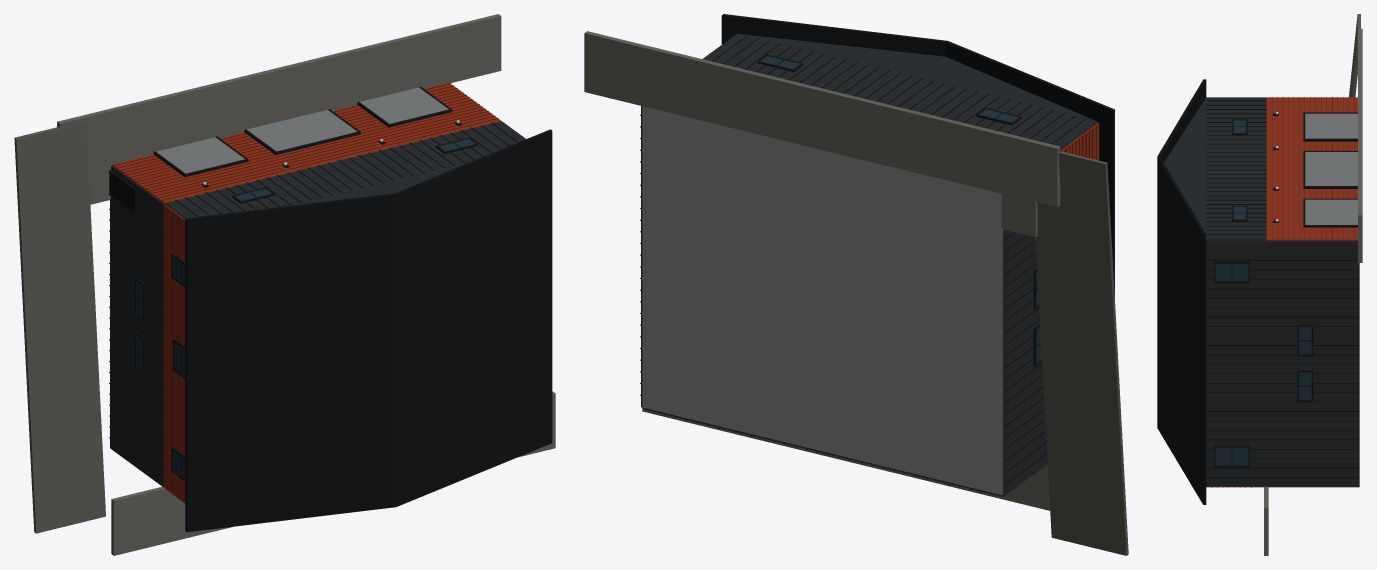
Rendered from walid_warehouse_two_tone.obj.
3 renders of one model, left to right at view 1: azimuth 30°, elevation 25°; view 2: azimuth 150°, elevation 25°; view 3: azimuth 270°, elevation 25°, orthographic. The views are drawn at different scales.
Parts seen in each view (by area): view 1: manor_shadow, driveway, terrain, manor_grey, burnt_sienna, burnt_sienna_joint, doors, black_trim, glazing; view 2: concrete, terrain, driveway, manor_grey, manor_shadow, black_trim, glazing, burnt_sienna; view 3: manor_grey, manor_shadow, burnt_sienna, doors, black_trim, glazing, terrain, burnt_sienna_joint, driveway.
Part boxes in pixels (<box>): manor_shadow: <box>109,122,552,532</box>; driveway: <box>14,122,105,533</box>; terrain: <box>57,14,555,555</box>; manor_grey: <box>110,121,525,486</box>; burnt_sienna: <box>112,82,500,502</box>; burnt_sienna_joint: <box>114,83,498,503</box>; doors: <box>156,87,448,173</box>; black_trim: <box>108,86,478,481</box>; glazing: <box>136,139,475,479</box>; concrete: <box>642,106,1003,495</box>; terrain: <box>584,31,1060,510</box>; driveway: <box>1035,151,1128,555</box>; manor_grey: <box>641,33,1097,496</box>; manor_shadow: <box>640,14,1114,495</box>; black_trim: <box>757,54,1041,366</box>; glazing: <box>761,56,1041,363</box>; burnt_sienna: <box>1060,123,1099,160</box>; manor_grey: <box>1164,97,1359,487</box>; manor_shadow: <box>1157,79,1359,504</box>; burnt_sienna: <box>1206,97,1357,487</box>; doors: <box>1305,113,1357,224</box>; black_trim: <box>1214,112,1357,466</box>; glazing: <box>1215,120,1311,465</box>; terrain: <box>1264,28,1362,555</box>; burnt_sienna_joint: <box>1211,96,1354,487</box>; driveway: <box>1349,14,1360,97</box>.
Bounding box in the file's own units: 22.22 × 17.18 × 9.4.
